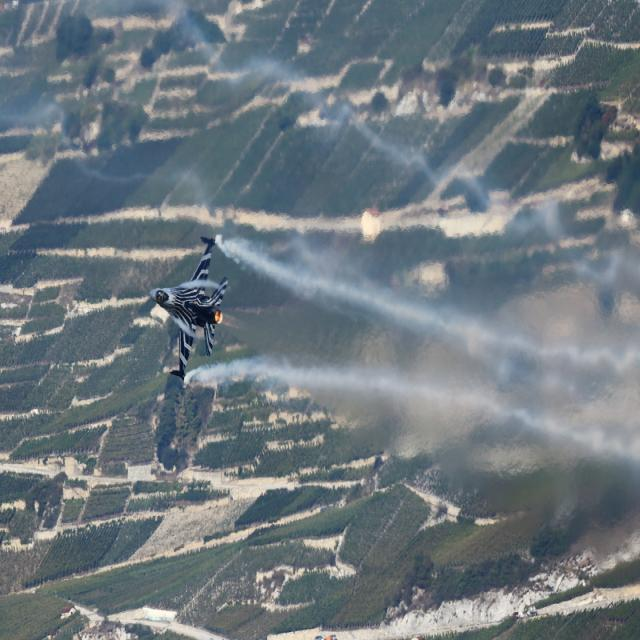MIL_Plane: (149, 235, 228, 382)
